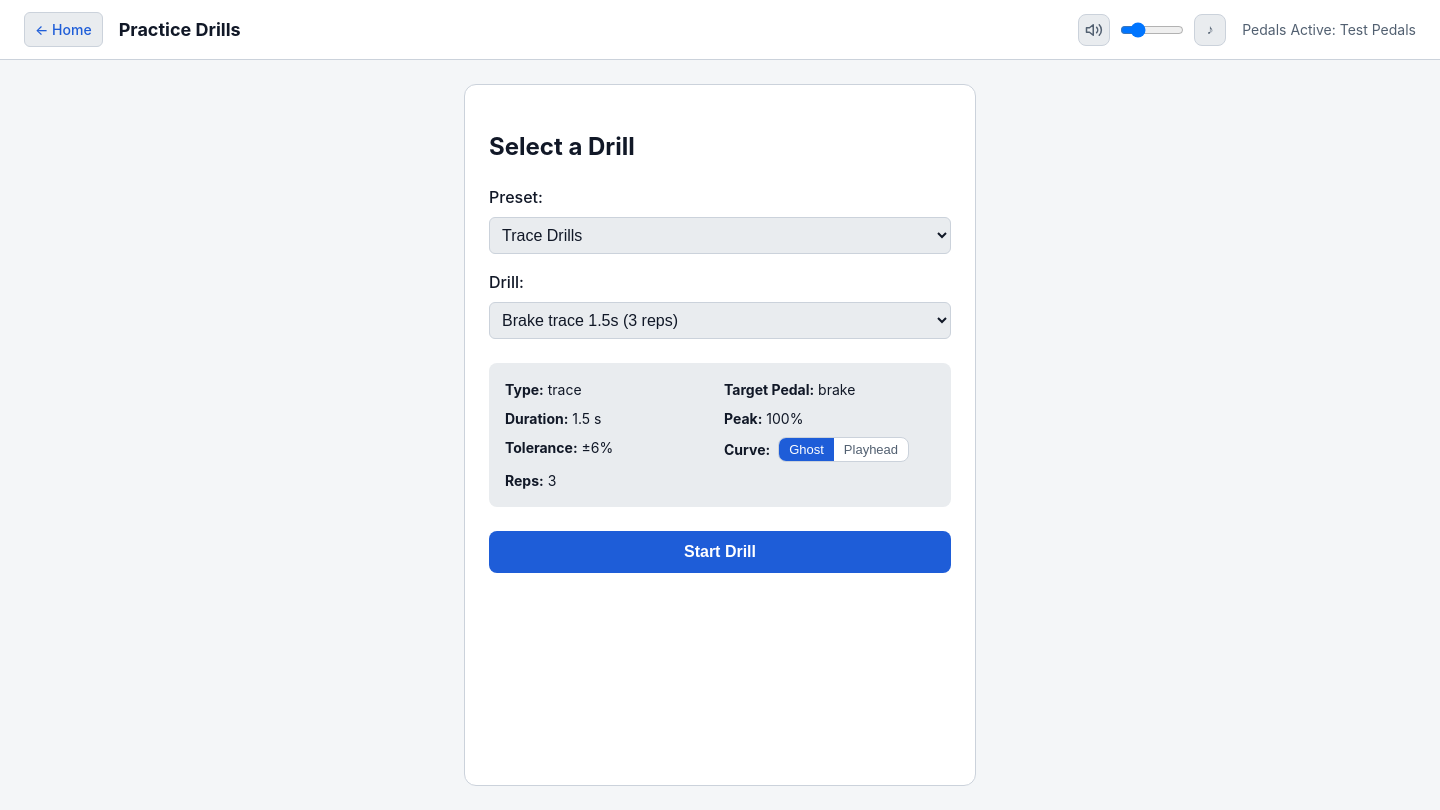
Test: Drill page › shows the Lag metric for a trace score
Click the button "Start Drill" at (720, 552), box [489,531,951,573]
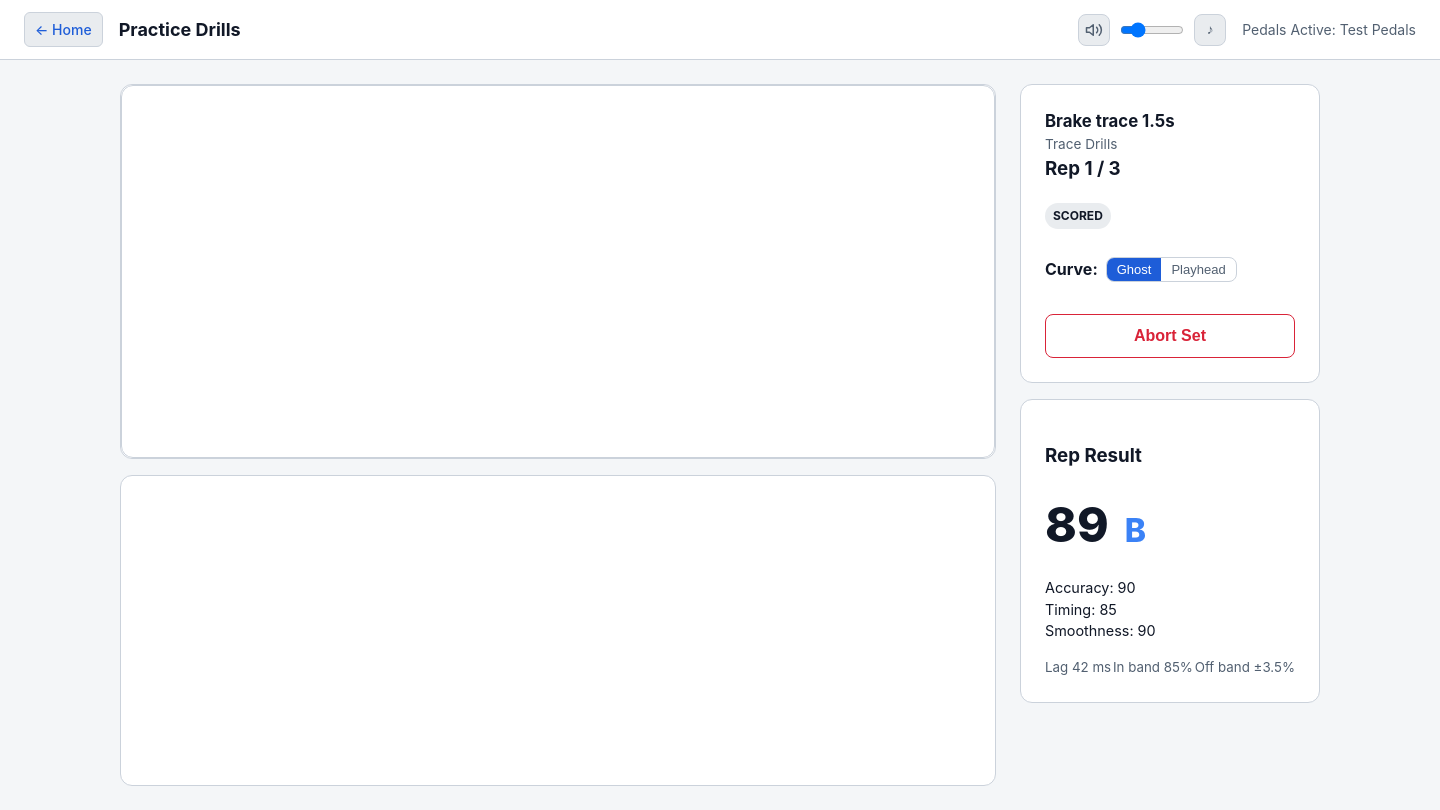
Expected: the text "Rep Result" shows "Lag 42 ms", [1045,659,1111,675]
Expected: the text "Rep Result" shows "In band 85%", [1113,659,1193,675]
Expected: the text "Rep Result" shows "Off band ±3.5%", [1195,659,1295,675]
